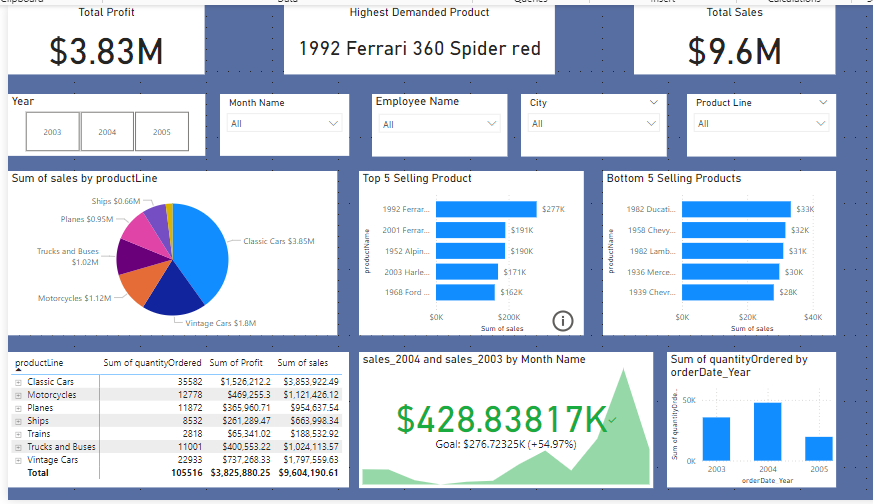

Layout of this report page (visuals, bound fields, positions):
{"tool":"powerbi","page":{"name":"Page 1","canvas":[1280,720],"ordinal":0},"visuals":[{"type":"card","title":"Total Profit","fields":{"Values":["orderDetails.Profit"]},"box":[0,0,286.3,101.1],"z":0},{"type":"card","title":"Highest Demanded Product","fields":{"Values":["products.productName"]},"box":[400.8,0,394.1,101.1],"z":1000},{"type":"pieChart","fields":{"Category":["productlines.productLine"],"Y":["orderDetails.sales"]},"box":[0,241.5,478.5,238.5],"z":2000},{"type":"barChart","title":"Top 5 Selling Product","fields":{"Category":["products.productName"],"Y":["orderDetails.sales"]},"box":[510.3,240.8,326.7,239.2],"z":3000},{"type":"pivotTable","fields":{"Rows":["productlines.productLine","products.productName"],"Values":["orderDetails.quantityOrdered","orderDetails.Profit","orderDetails.sales"]},"box":[0,504.8,496.2,197.1],"z":4000},{"type":"slicer","title":"Year","fields":{"Values":["orders.orderDate_Year"]},"box":[0,129.5,286.5,90.2],"z":5000},{"type":"slicer","fields":{"Values":["orders.Month Name"]},"box":[308.4,129.5,187.6,90.2],"z":6000},{"type":"card","title":"Total Sales","fields":{"Values":["orderDetails.sales"]},"box":[911.2,0,293.1,101.1],"z":7000},{"type":"kpi","fields":{"Goal":["orders.sales_2003"],"TrendLine":["orders.Month Name"],"Indicator":["orders.sales_2004"]},"box":[510.5,504.7,427.6,197.8],"z":8000},{"type":"barChart","title":"Bottom 5 Selling Products","fields":{"Category":["products.productName"],"Y":["orderDetails.sales"]},"box":[865.7,240.8,338.5,239.2],"z":9000},{"type":"columnChart","fields":{"Category":["orders.orderDate_Year"],"Y":["orderDetails.quantityOrdered"]},"box":[958.3,505.3,245.9,197.1],"z":10000},{"type":"slicer","title":"Employee Name","fields":{"Values":["employees.EmpFullName"]},"box":[528.8,129.7,197.1,90.9],"z":11000},{"type":"slicer","fields":{"Values":["employees.city"]},"box":[746.1,129.7,212.2,90.9],"z":12000},{"type":"slicer","fields":{"Values":["productlines.productLine"]},"box":[986.9,129.7,217.3,90.9],"z":13000},{"type":"actionButton","box":[786.9,439.3,50.9,40.7],"z":13001}]}

Visuals, with their boxes in screenshot pixels (x1, y1, x2, y2), scaled from the page's 1280x720 canvas onto the 873x504 screenshot:
"Total Profit" card: pyautogui.locateOnScreen(0, 0, 195, 71)
"Highest Demanded Product" card: pyautogui.locateOnScreen(273, 0, 542, 71)
pieChart - productlines.productLine x orderDetails.sales: pyautogui.locateOnScreen(0, 169, 326, 336)
"Top 5 Selling Product" barChart: pyautogui.locateOnScreen(348, 169, 571, 336)
pivotTable - productlines.productLine x products.productName: pyautogui.locateOnScreen(0, 353, 338, 491)
"Year" slicer: pyautogui.locateOnScreen(0, 91, 195, 154)
slicer - orders.Month Name: pyautogui.locateOnScreen(210, 91, 338, 154)
"Total Sales" card: pyautogui.locateOnScreen(621, 0, 821, 71)
kpi - orders.sales_2003 x orders.Month Name: pyautogui.locateOnScreen(348, 353, 640, 492)
"Bottom 5 Selling Products" barChart: pyautogui.locateOnScreen(590, 169, 821, 336)
columnChart - orders.orderDate_Year x orderDetails.quantityOrdered: pyautogui.locateOnScreen(654, 354, 821, 492)
"Employee Name" slicer: pyautogui.locateOnScreen(361, 91, 495, 154)
slicer - employees.city: pyautogui.locateOnScreen(509, 91, 654, 154)
slicer - productlines.productLine: pyautogui.locateOnScreen(673, 91, 821, 154)
actionButton: pyautogui.locateOnScreen(537, 308, 571, 336)
